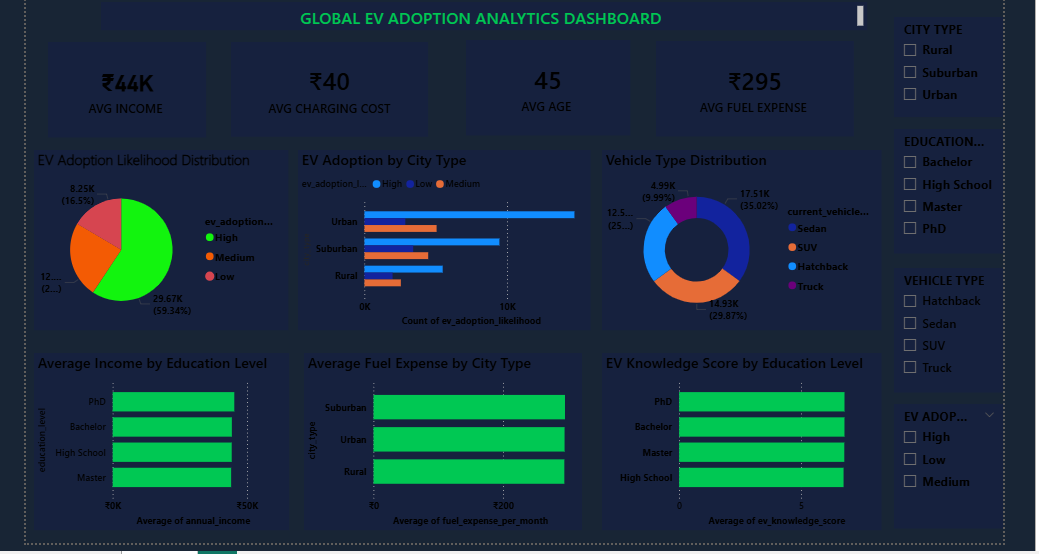

This screenshot's page, from the dashboard's own definition file:
{"tool":"powerbi","page":{"name":"Page 1","canvas":[1280,720],"ordinal":0},"visuals":[{"type":"card","fields":{"Values":["Avg(ev_cleaned_data.annual_income)"]},"box":[28.8,64.8,207.4,125.3],"z":0},{"type":"card","fields":{"Values":["Avg(ev_cleaned_data.age)"]},"box":[576,61.9,214.6,125.3],"z":1000},{"type":"card","fields":{"Values":["Avg(ev_cleaned_data.fuel_expense_per_month)"]},"box":[825.1,63.4,259.2,125.3],"z":2000},{"type":"card","fields":{"Values":["Avg(ev_cleaned_data.monthly_charging_cost)"]},"box":[267.8,64.8,257.8,123.8],"z":3000},{"type":"pieChart","title":"EV Adoption Likelihood Distribution ","fields":{"Category":["ev_cleaned_data.ev_adoption_likelihood"],"Y":["CountNonNull(ev_cleaned_data.ev_adoption_likelihood)"]},"box":[10.1,205.9,332.6,236.2],"z":4000},{"type":"clusteredBarChart","title":"EV Adoption by City Type","fields":{"Series":["ev_cleaned_data.ev_adoption_likelihood"],"Category":["ev_cleaned_data.city_type"],"Y":["CountNonNull(ev_cleaned_data.ev_adoption_likelihood)"]},"box":[355.7,205.9,383,236.2],"z":5000},{"type":"clusteredBarChart","title":"Average Income by Education Level","fields":{"Category":["ev_cleaned_data.education_level"],"Y":["Avg(ev_cleaned_data.annual_income)"]},"box":[10.1,470.9,334.1,231.8],"z":6000},{"type":"donutChart","title":" Vehicle Type Distribution","fields":{"Category":["ev_cleaned_data.current_vehicle_type"],"Y":["CountNonNull(ev_cleaned_data.current_vehicle_type)"]},"box":[754.6,205.9,365.8,236.2],"z":6001},{"type":"clusteredBarChart","title":"Average Fuel Expense by City Type","fields":{"Y":["Avg(ev_cleaned_data.fuel_expense_per_month)"],"Category":["ev_cleaned_data.city_type"]},"box":[364.3,470.9,364.3,231.8],"z":6002},{"type":"clusteredBarChart","title":"EV Knowledge Score by Education Level","fields":{"Category":["ev_cleaned_data.education_level"],"Y":["Avg(ev_cleaned_data.ev_knowledge_score)"]},"box":[754.6,470.9,365.8,231.8],"z":6003},{"type":"slicer","fields":{"Values":["ev_cleaned_data.city_type"]},"box":[1136.2,31.7,144,131],"z":6004},{"type":"slicer","fields":{"Values":["ev_cleaned_data.education_level"]},"box":[1136.2,178.6,144,162.7],"z":6005},{"type":"slicer","fields":{"Values":["ev_cleaned_data.current_vehicle_type"]},"box":[1136.2,360,144,162.7],"z":6006},{"type":"slicer","fields":{"Values":["ev_cleaned_data.ev_adoption_likelihood"]},"box":[1136.2,538.6,144,162.7],"z":6007},{"type":"textbox","box":[98.7,11.4,1002.5,37.2],"z":6008}]}

Visuals, with their boxes on the page's 1280x720 design canvas (x1, y1, x2, y2). These are canvas units, not pixel positions in the 1039x554 screenshot, which may show the page scaled, cropped or inside an application window:
card - Avg(ev_cleaned_data.annual_income): BBox(29, 65, 236, 190)
card - Avg(ev_cleaned_data.age): BBox(576, 62, 791, 187)
card - Avg(ev_cleaned_data.fuel_expense_per_month): BBox(825, 63, 1084, 189)
card - Avg(ev_cleaned_data.monthly_charging_cost): BBox(268, 65, 526, 189)
"EV Adoption Likelihood Distribution " pieChart: BBox(10, 206, 343, 442)
"EV Adoption by City Type" clusteredBarChart: BBox(356, 206, 739, 442)
"Average Income by Education Level" clusteredBarChart: BBox(10, 471, 344, 703)
" Vehicle Type Distribution" donutChart: BBox(755, 206, 1120, 442)
"Average Fuel Expense by City Type" clusteredBarChart: BBox(364, 471, 729, 703)
"EV Knowledge Score by Education Level" clusteredBarChart: BBox(755, 471, 1120, 703)
slicer - ev_cleaned_data.city_type: BBox(1136, 32, 1280, 163)
slicer - ev_cleaned_data.education_level: BBox(1136, 179, 1280, 341)
slicer - ev_cleaned_data.current_vehicle_type: BBox(1136, 360, 1280, 523)
slicer - ev_cleaned_data.ev_adoption_likelihood: BBox(1136, 539, 1280, 701)
textbox: BBox(99, 11, 1101, 49)
